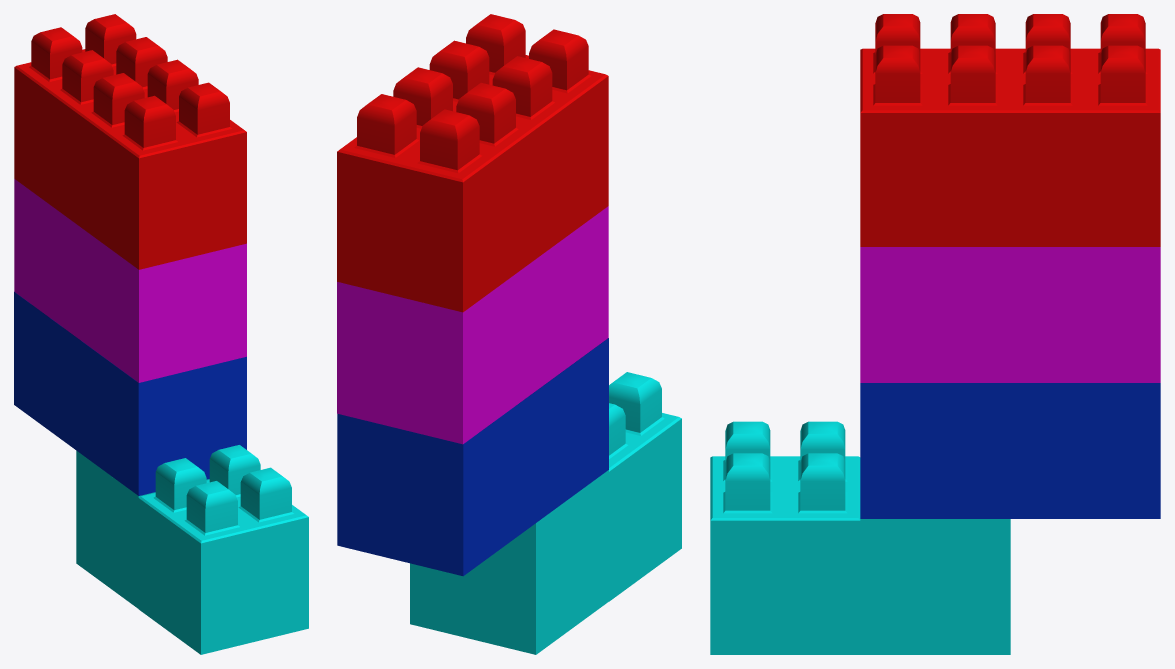
File: magazynek m4.fbx
3 renders of one model, left to right at view 1: azimuth 30°, elevation 25°; view 2: azimuth 150°, elevation 25°; view 3: azimuth 270°, elevation 25°, orthographic. The views are drawn at different scales.
Parts seen in each view (by area): view 1: klocekx87:klocekx2, klocekx83, klocekx85, klocekx84, klocekx86; view 2: klocekx87:klocekx2, klocekx84, klocekx85, klocekx86, klocekx83; view 3: klocekx87:klocekx2, klocekx84, klocekx85, klocekx83, klocekx86.
Boxes of the visible parts, x1,y1,x2,y2 form: klocekx87:klocekx2: (14, 14, 246, 269); klocekx83: (138, 445, 308, 654); klocekx85: (14, 179, 246, 382); klocekx84: (14, 292, 246, 495); klocekx86: (76, 450, 209, 608); klocekx87:klocekx2: (337, 14, 608, 312); klocekx84: (337, 338, 608, 576); klocekx85: (337, 206, 608, 444); klocekx86: (410, 470, 608, 654); klocekx83: (609, 372, 681, 601); klocekx87:klocekx2: (860, 14, 1160, 246); klocekx84: (860, 383, 1160, 518); klocekx85: (860, 247, 1160, 382); klocekx83: (710, 421, 860, 654); klocekx86: (860, 519, 1010, 654).
Bounding box in the file's own units: 3.01 × 13 × 9.
